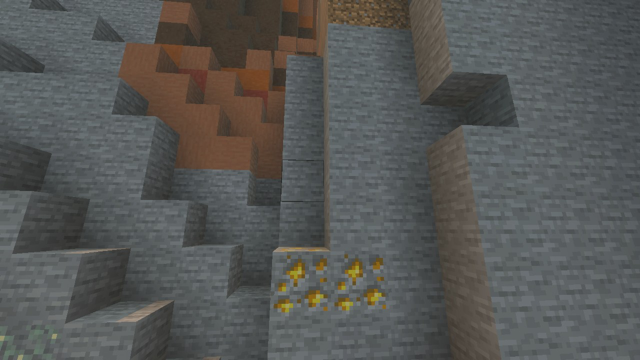gold: (269, 245, 390, 316)
